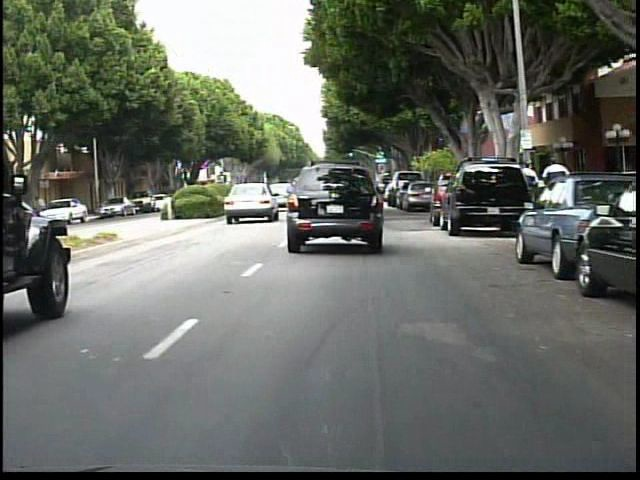person: (539, 149, 573, 219), (514, 157, 540, 217), (35, 192, 55, 231)
